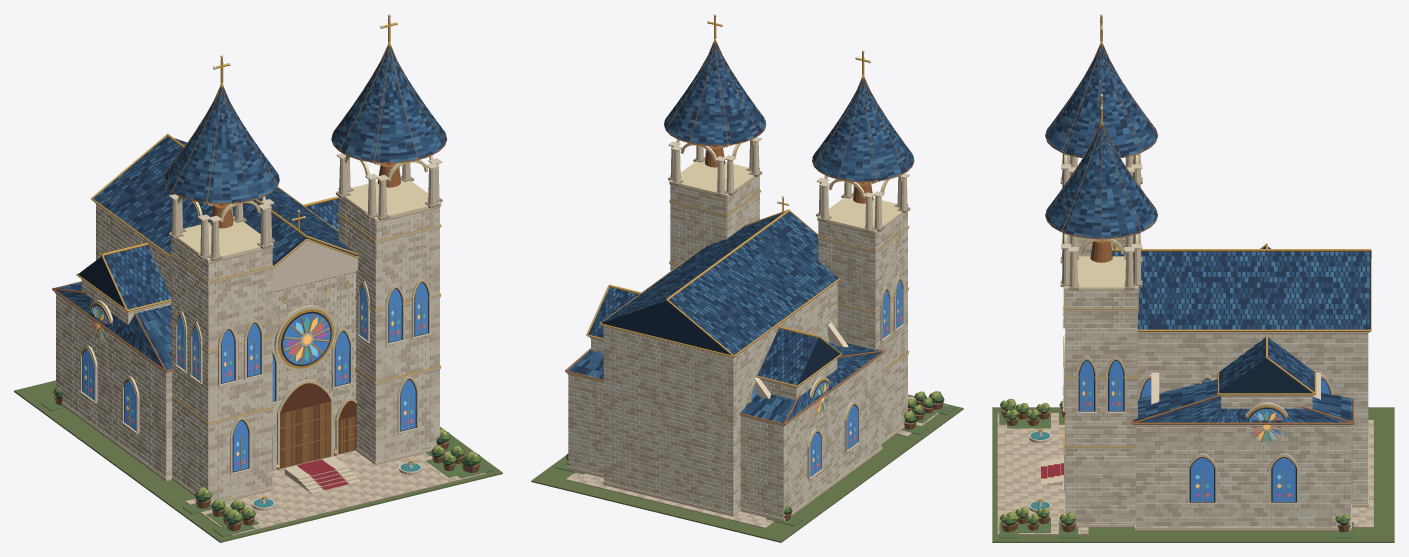
File: church-nivel-9.glb
3 renders of one model, left to right at view 1: azimuth 30°, elevation 25°; view 2: azimuth 150°, elevation 25°; view 3: azimuth 270°, elevation 25°, orthographic. The views are drawn at different scales.
Visible parts, largest first — view 1: Igreja 09 #e8dcc5, Igreja 09 #cec1a8, Igreja 09 #ded1b9, Igreja 09 #eae1ce, Igreja 09 #e6d7ba, Igreja 09 #20354f, Igreja 09 #406c9f, Igreja 09 #355c80, Igreja 09 #284763, Igreja 09 #426e90, Igreja 09 #2d4d71, Igreja 09 #d5a452 (+17 smaller); view 2: Igreja 09 #20354f, Igreja 09 #eae1ce, Igreja 09 #ded1b9, Igreja 09 #e8dcc5, Igreja 09 #cec1a8, Igreja 09 #e6d7ba, Igreja 09 #355c80, Igreja 09 #426e90, Igreja 09 #284763, Igreja 09 #2d4d71, Igreja 09 #6c7d4e, Igreja 09 #d5a452 (+9 smaller); view 3: Igreja 09 #20354f, Igreja 09 #e8dcc5, Igreja 09 #ded1b9, Igreja 09 #eae1ce, Igreja 09 #cec1a8, Igreja 09 #355c80, Igreja 09 #e6d7ba, Igreja 09 #284763, Igreja 09 #6c7d4e, Igreja 09 #426e90, Igreja 09 #2d4d71, Igreja 09 #b3a390 (+16 smaller).
Part boxes in pixels (box(x1,y1,x2,y2)): Igreja 09 #e8dcc5: box(56, 197, 439, 501); Igreja 09 #cec1a8: box(56, 197, 439, 499); Igreja 09 #ded1b9: box(56, 162, 439, 499); Igreja 09 #eae1ce: box(56, 205, 439, 498); Igreja 09 #e6d7ba: box(54, 153, 442, 510); Igreja 09 #20354f: box(56, 47, 446, 369); Igreja 09 #406c9f: box(82, 282, 427, 471); Igreja 09 #355c80: box(58, 47, 445, 369); Igreja 09 #284763: box(63, 47, 445, 363); Igreja 09 #426e90: box(64, 48, 446, 359); Igreja 09 #2d4d71: box(56, 49, 443, 370); Igreja 09 #d5a452: box(76, 17, 441, 498); Igreja 09 #20354f: box(569, 43, 913, 421); Igreja 09 #eae1ce: box(568, 179, 907, 518); Igreja 09 #ded1b9: box(568, 145, 907, 516); Igreja 09 #e8dcc5: box(568, 175, 907, 513); Igreja 09 #cec1a8: box(568, 182, 907, 518); Igreja 09 #e6d7ba: box(567, 137, 909, 520); Igreja 09 #355c80: box(574, 45, 913, 422); Igreja 09 #426e90: box(567, 47, 911, 421); Igreja 09 #284763: box(569, 44, 911, 416); Igreja 09 #2d4d71: box(593, 43, 912, 423); Igreja 09 #6c7d4e: box(531, 394, 963, 542); Igreja 09 #d5a452: box(586, 16, 909, 472); Igreja 09 #20354f: box(1046, 46, 1370, 422); Igreja 09 #e8dcc5: box(1065, 235, 1368, 527); Igreja 09 #ded1b9: box(1064, 154, 1369, 527); Igreja 09 #eae1ce: box(1065, 235, 1368, 527); Igreja 09 #cec1a8: box(1065, 239, 1368, 527); Igreja 09 #355c80: box(1047, 46, 1369, 422); Igreja 09 #e6d7ba: box(1029, 153, 1368, 530); Igreja 09 #284763: box(1045, 47, 1369, 422); Igreja 09 #6c7d4e: box(992, 407, 1394, 542); Igreja 09 #426e90: box(1045, 46, 1369, 422); Igreja 09 #2d4d71: box(1045, 48, 1369, 422); Igreja 09 #b3a390: box(1065, 237, 1367, 526).
Bounding box in the file's own units: 22.75 × 33.3 × 28.77.
